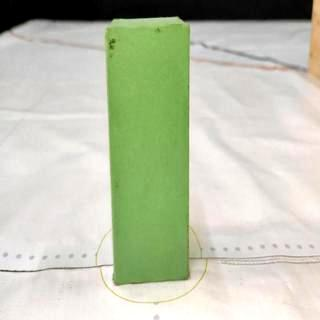greenbox: (105, 14, 190, 283)
